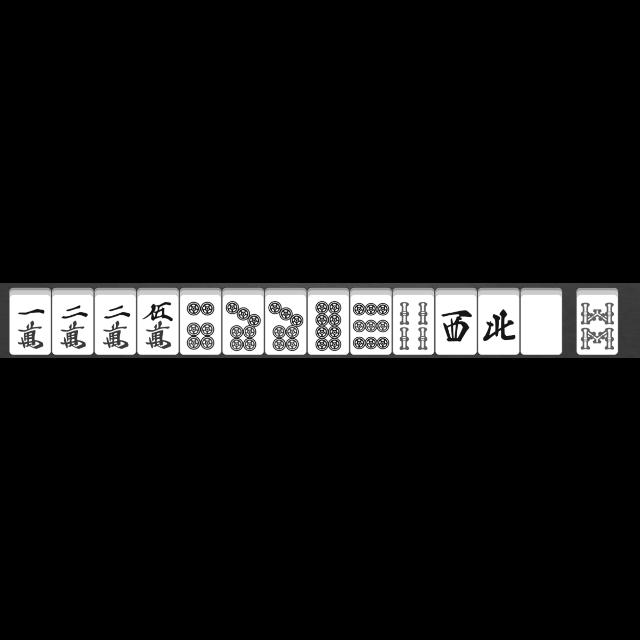1m: (9, 287, 51, 355)
2m: (94, 288, 138, 354), (52, 287, 94, 355)
4s: (394, 289, 436, 356)
5m: (138, 289, 178, 355)
6p: (179, 288, 223, 356)
7p: (265, 288, 307, 354), (223, 288, 264, 354)
8p: (307, 288, 348, 354)
8s: (578, 288, 616, 354)
9s: (350, 288, 392, 356)
haku: (521, 288, 563, 354)
pe: (478, 288, 520, 356)
sha: (434, 287, 478, 355)
